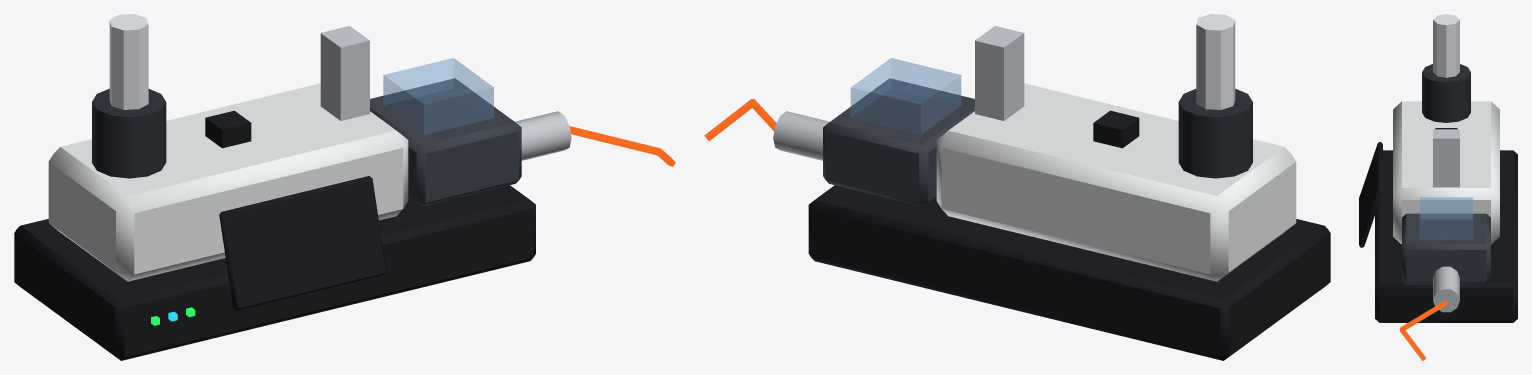
File: analyzer_spectrometer.glb
3 renders of one model, left to right at view 1: azimuth 30°, elevation 25°; view 2: azimuth 150°, elevation 25°; view 3: azimuth 270°, elevation 25°, orthographic. The views are drawn at different scales.
Parts seen in each view (by area): view 1: analyzer_spectrometer; view 2: analyzer_spectrometer; view 3: analyzer_spectrometer.
Part boxes in pixels (bbox=[...]): analyzer_spectrometer: bbox=[14, 14, 675, 360]; analyzer_spectrometer: bbox=[704, 14, 1330, 360]; analyzer_spectrometer: bbox=[1359, 14, 1517, 360].
Size of the model in its own units: 1.01 by 0.47 by 0.3557.
